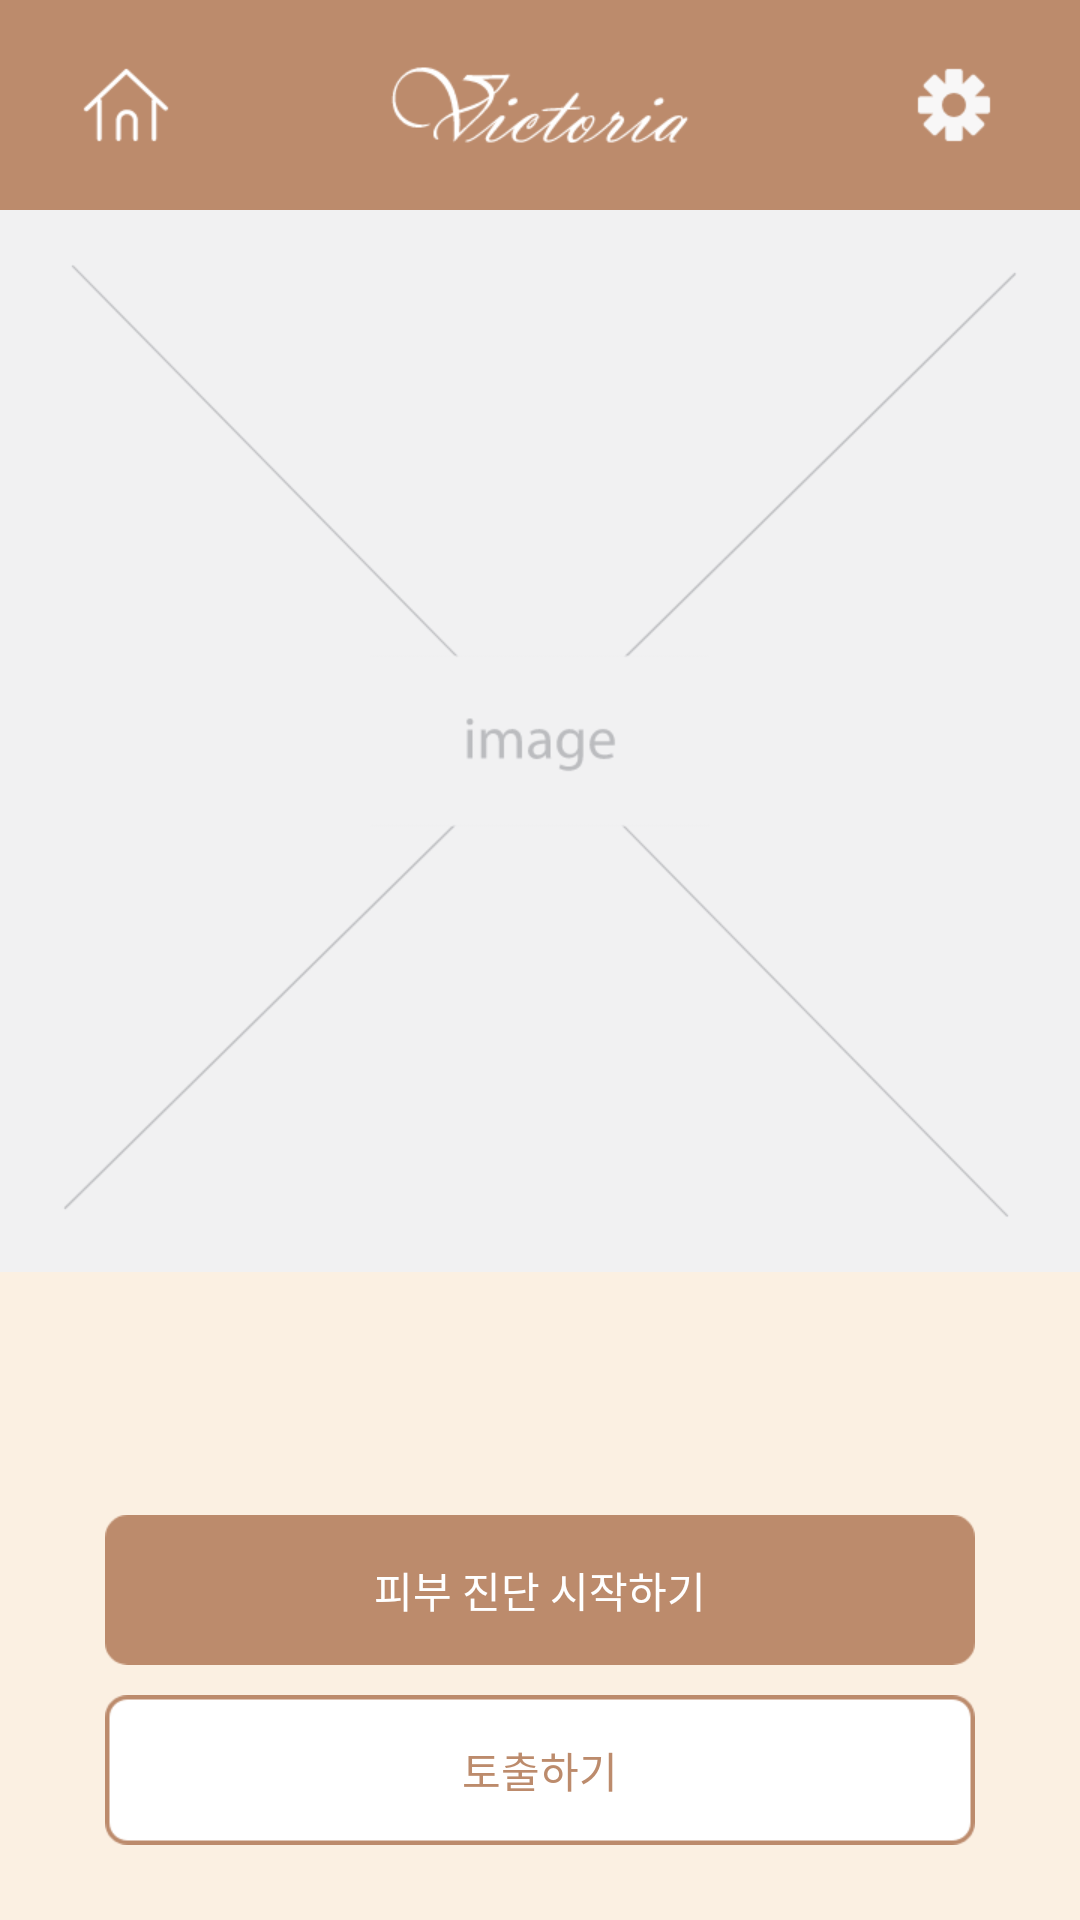

Where to tap for icons on this 1080*1920 app screen, as (x,y):
home: (126,105)
setting: (954,105)
